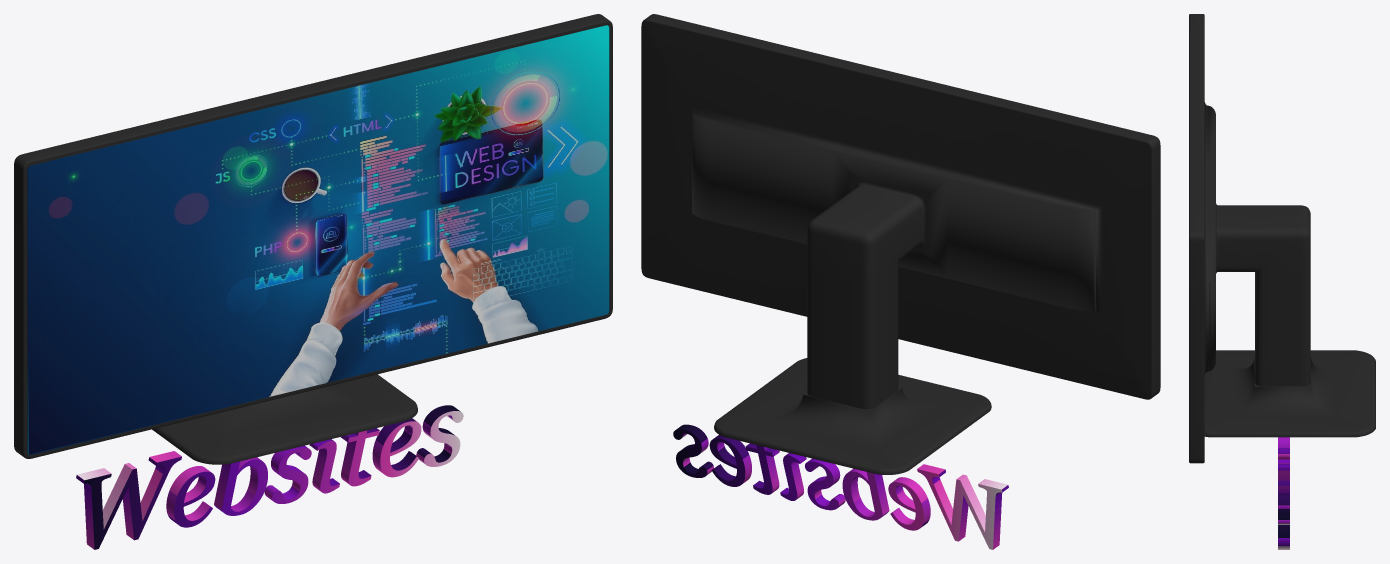
Rendered from Monitor.glb.
The picture shows the model from 3 angles, left to right: view 1: azimuth 30°, elevation 25°; view 2: azimuth 150°, elevation 25°; view 3: azimuth 270°, elevation 25°; orthographic projection. The views are drawn at different scales.
Parts seen in each view (by area): view 1: Screen, Box001, Text002; view 2: Box001, Text002; view 3: Box001, Text002.
Part boxes in pixels (x1,y1,x2,y2): Screen: (27, 25, 609, 454); Box001: (14, 14, 612, 464); Text002: (76, 405, 463, 549); Box001: (641, 14, 1160, 474); Text002: (673, 424, 1008, 549); Box001: (1189, 14, 1375, 463); Text002: (1278, 437, 1289, 549).
Bounding box in the file's own units: 5.62 × 4.19 × 1.99.
Materials: 3 (2 with a texture image).
